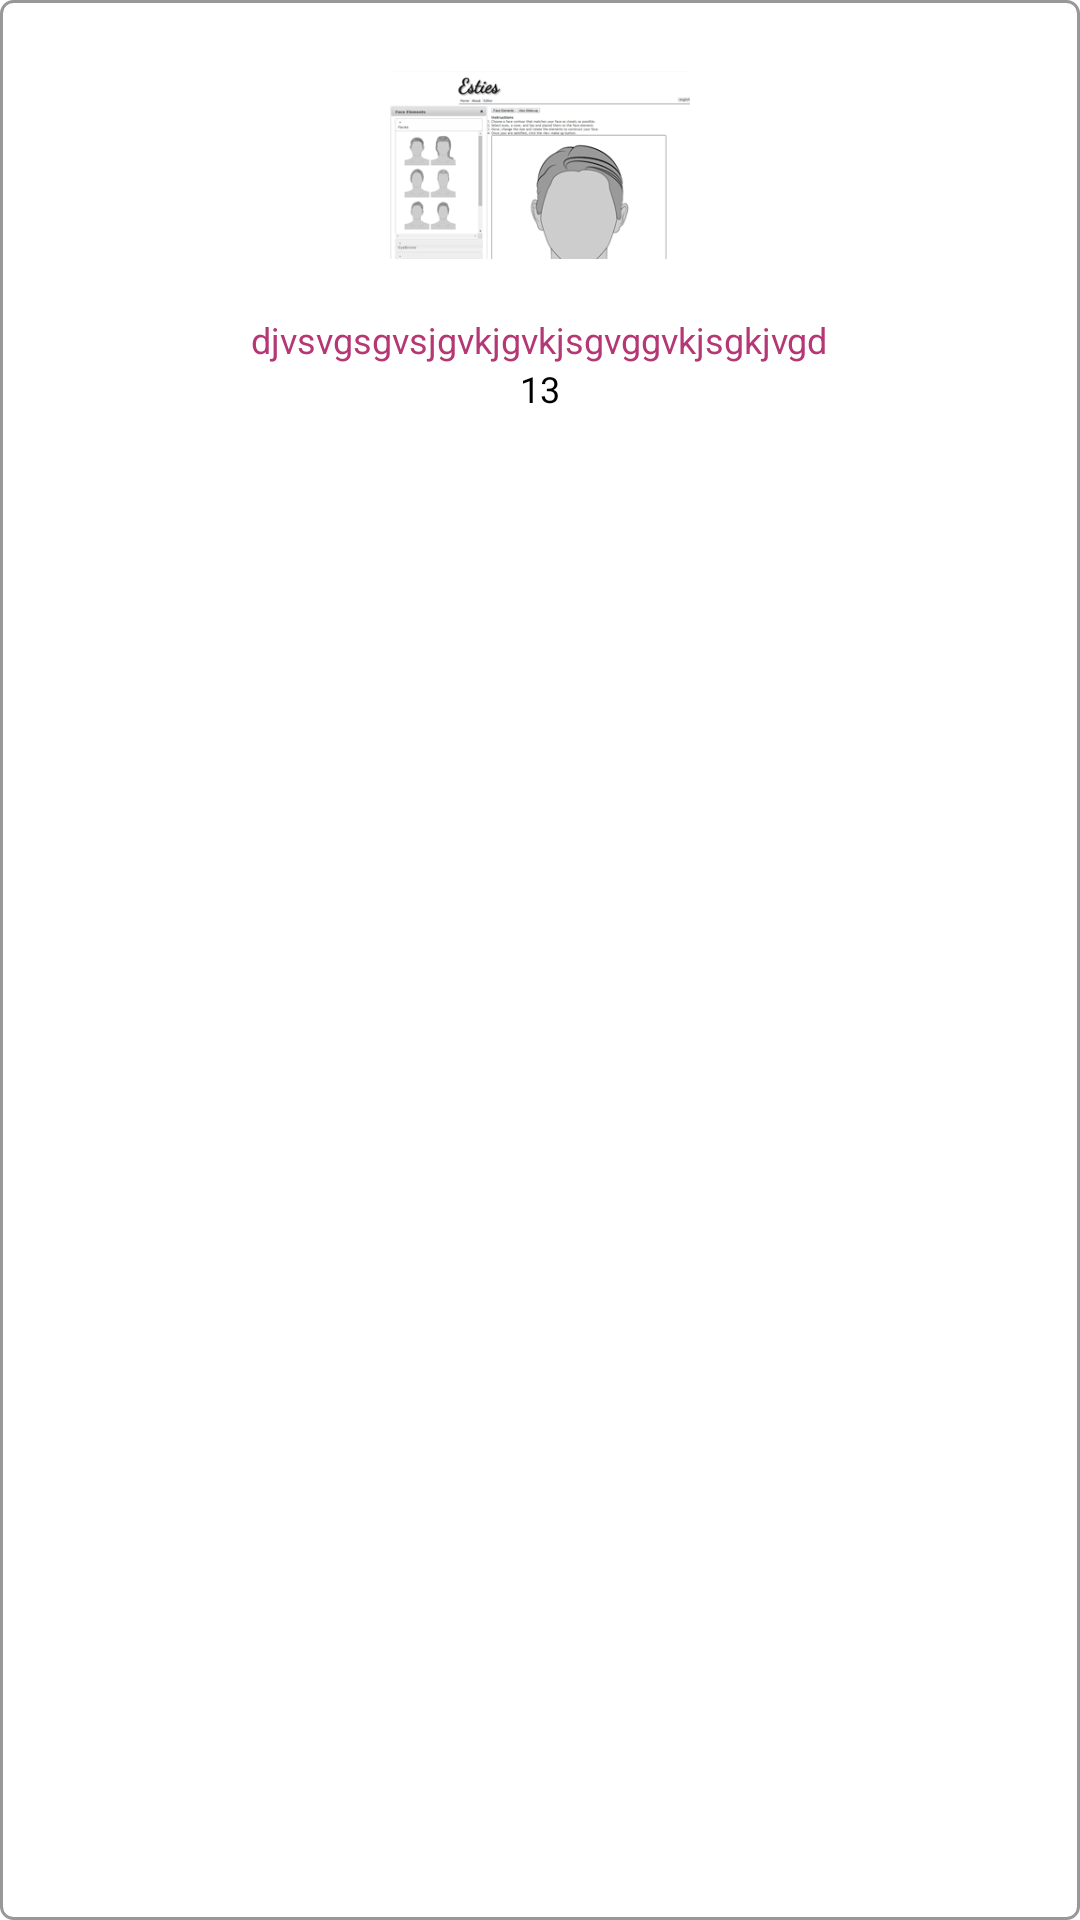

Icon click points for this 1080w x 1920h phone screenshot, format (x,y):
videothumb: (540,168)
